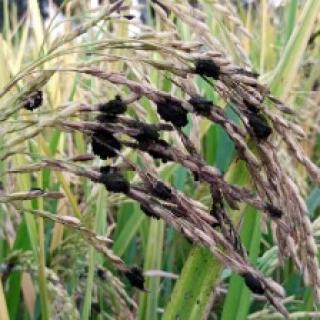Gosong-Palsu: (156, 97, 187, 126), (130, 121, 169, 144), (93, 130, 120, 159), (99, 169, 129, 190), (250, 113, 271, 139), (99, 94, 126, 113), (196, 60, 219, 79), (124, 270, 144, 290), (150, 181, 170, 200), (143, 150, 171, 161)
